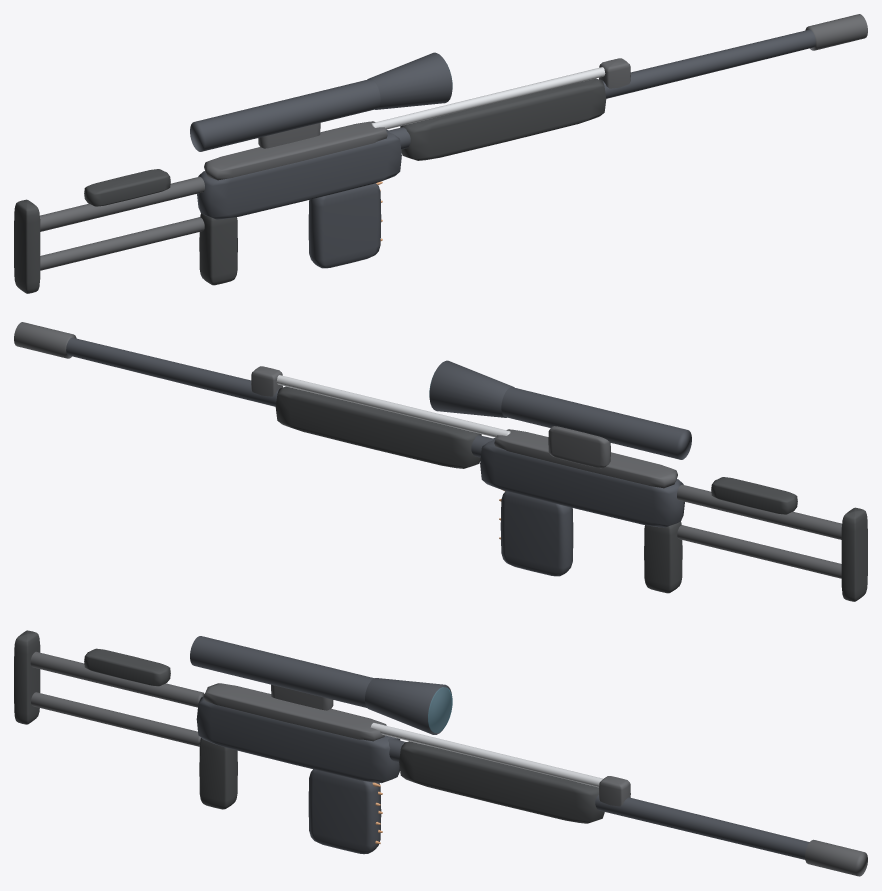
File: svdk-reg.glb
3 renders of one model, top to bottom at view 1: azimuth 30°, elevation 25°; view 2: azimuth 150°, elevation 25°; view 3: azimuth 330°, elevation 25°, orthographic.
Visible parts, largest first — view 1: receiver, handguard, optic_tube, mag_body, barrel, dust_cover, optic_obj, stock_bot_tube, pistol_grip, gas_piston_short, stock_top_tube, stock_buttplate (+4 smaller); view 2: receiver, handguard, optic_tube, mag_body, barrel, optic_obj, dust_cover, stock_bot_tube, pistol_grip, gas_piston_short, stock_top_tube, stock_buttplate (+4 smaller); view 3: handguard, receiver, optic_tube, mag_body, barrel, dust_cover, optic_obj, stock_bot_tube, stock_top_tube, pistol_grip, gas_piston_short, stock_buttplate (+5 smaller).
Part boxes in pixels (box(x1,y1,x2,y2)): receiver: box(197, 129, 401, 219); handguard: box(400, 78, 606, 160); optic_tube: box(190, 79, 380, 151); mag_body: box(308, 183, 381, 268); barrel: box(388, 29, 815, 149); dust_cover: box(204, 121, 387, 180); optic_obj: box(367, 52, 452, 109); stock_bot_tube: box(40, 217, 204, 270); pistol_grip: box(199, 213, 237, 285); gas_piston_short: box(370, 67, 605, 129); stock_top_tube: box(40, 176, 204, 231); stock_buttplate: box(14, 199, 40, 293); receiver: box(480, 437, 684, 527); handguard: box(275, 386, 481, 468); optic_tube: box(501, 387, 691, 459); mag_body: box(500, 491, 573, 576); barrel: box(66, 337, 493, 457); optic_obj: box(429, 360, 514, 417); dust_cover: box(494, 429, 677, 488); stock_bot_tube: box(677, 525, 841, 578); pistol_grip: box(644, 521, 682, 593); gas_piston_short: box(276, 375, 511, 437); stock_top_tube: box(677, 484, 841, 539); stock_buttplate: box(841, 507, 867, 601); handguard: box(399, 741, 604, 823); receiver: box(196, 696, 400, 783); optic_tube: box(190, 636, 373, 707); mag_body: box(308, 769, 381, 854); barrel: box(388, 738, 809, 859); dust_cover: box(204, 683, 386, 741); optic_obj: box(365, 678, 451, 734); stock_bot_tube: box(31, 692, 200, 746); stock_top_tube: box(30, 651, 204, 707); pistol_grip: box(199, 738, 237, 809); gas_piston_short: box(370, 723, 603, 787); stock_buttplate: box(14, 630, 40, 724).
Bounding box in the file's own units: 1.2 × 0.2505 × 0.0635.
